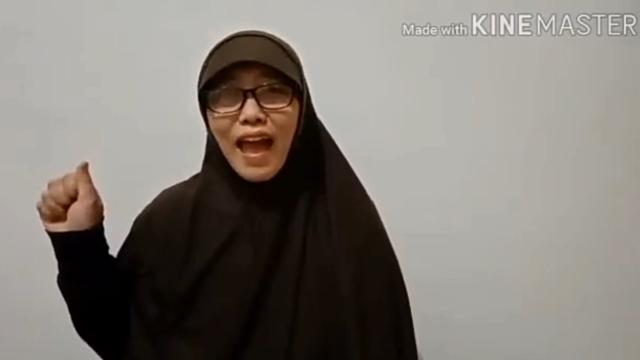A: (34, 160, 112, 244)
